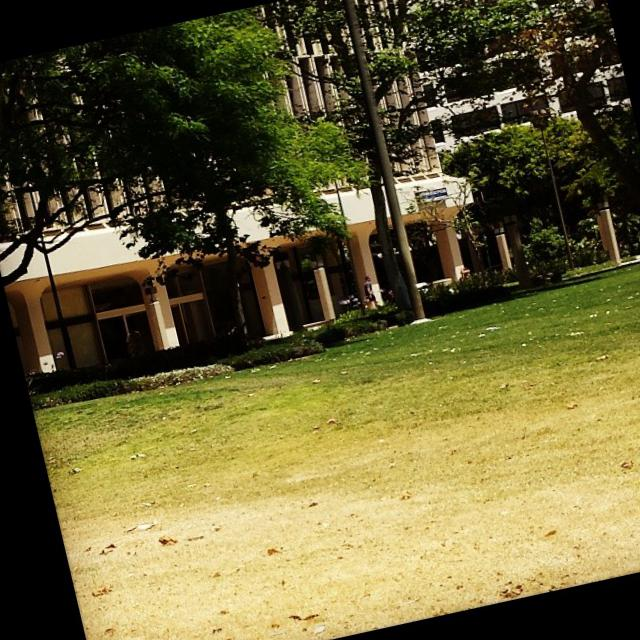patch: (120, 521, 339, 602), (478, 410, 580, 507), (297, 452, 436, 508), (398, 528, 509, 596), (138, 462, 284, 512), (524, 523, 611, 573), (69, 498, 113, 579), (100, 608, 207, 640), (594, 424, 640, 491), (353, 528, 388, 600), (220, 612, 307, 640)
